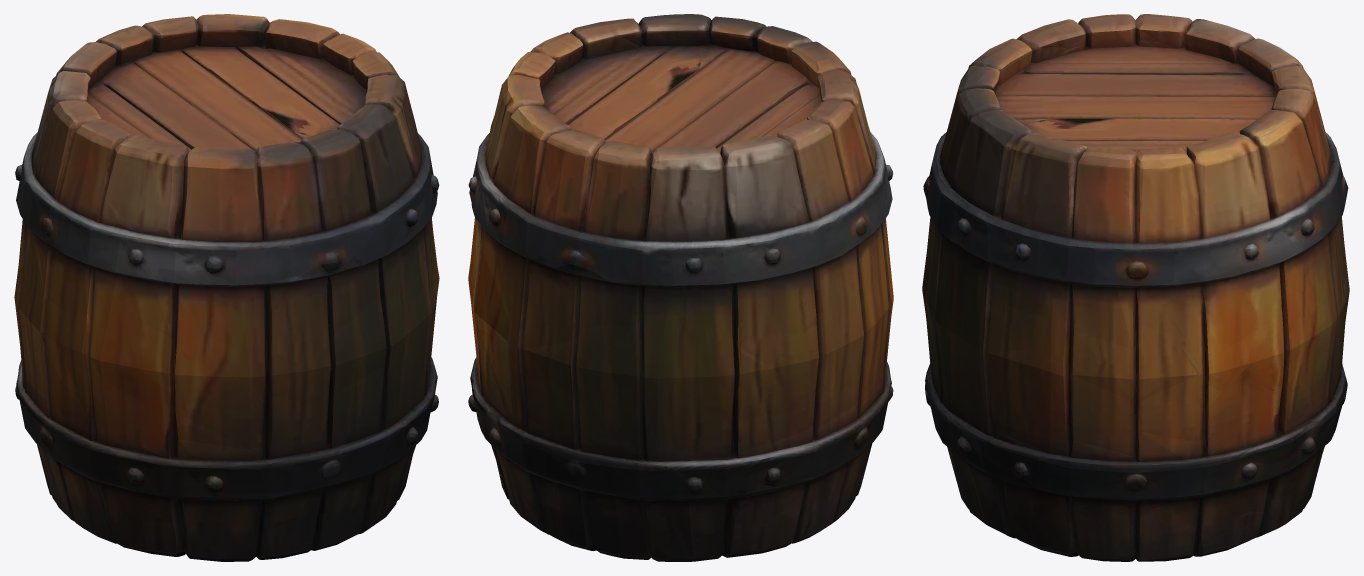
File: barrel.glb
3 views of the same model, side by side, from view 1: azimuth 30°, elevation 25°; view 2: azimuth 150°, elevation 25°; view 3: azimuth 270°, elevation 25° (orthographic).
Visible parts, largest first — view 1: geometry_0; view 2: geometry_0; view 3: geometry_0.
Boxes of the visible parts, x1,y1,x2,y2 form: geometry_0: [14, 14, 439, 561]; geometry_0: [468, 14, 893, 561]; geometry_0: [922, 14, 1349, 561].
Size of the model in its own units: 0.9536 by 0.9996 by 0.954.
1 material, 1 textured.
